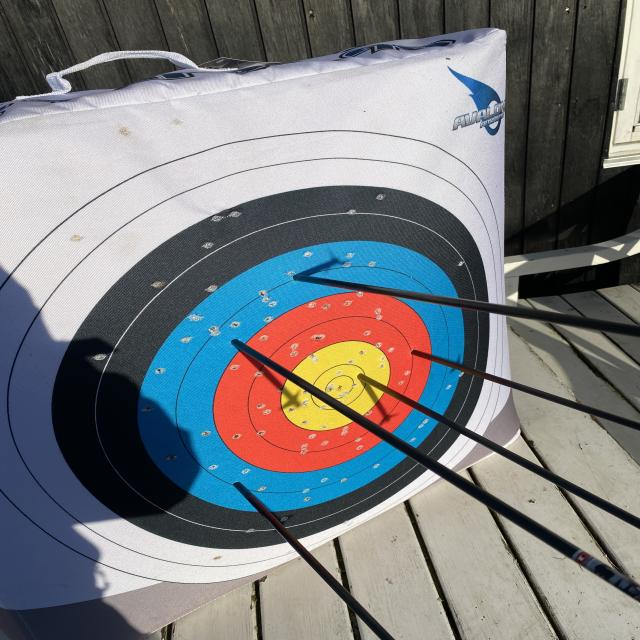Arrow_Blue: (280, 266, 325, 294), (211, 330, 254, 358), (219, 470, 261, 494)
Arrow_Red: (392, 342, 450, 372)
Arrow_Yellow: (344, 364, 383, 395)
